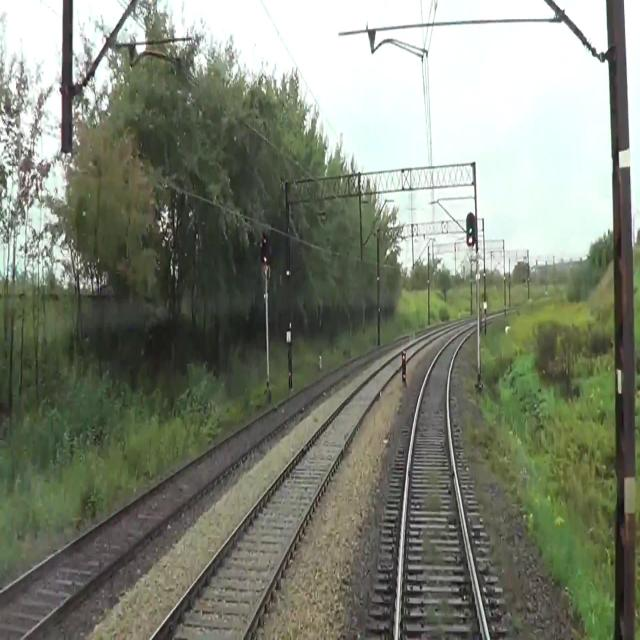rail-track: (0, 345, 389, 639), (155, 338, 429, 639), (399, 330, 485, 639)
